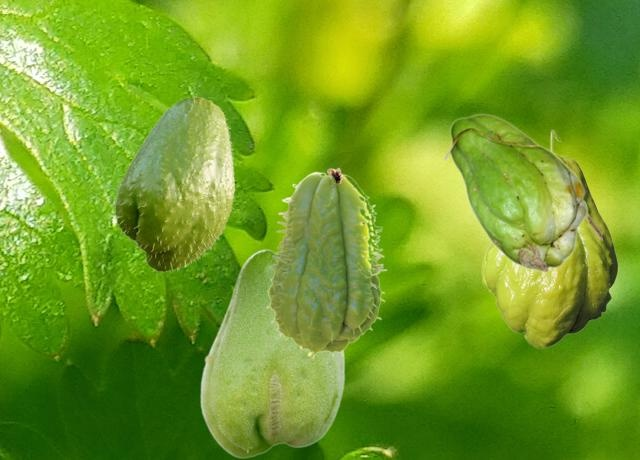sayote: (199, 248, 344, 457), (481, 129, 617, 347), (442, 113, 601, 272), (265, 167, 386, 358), (111, 96, 235, 273)
